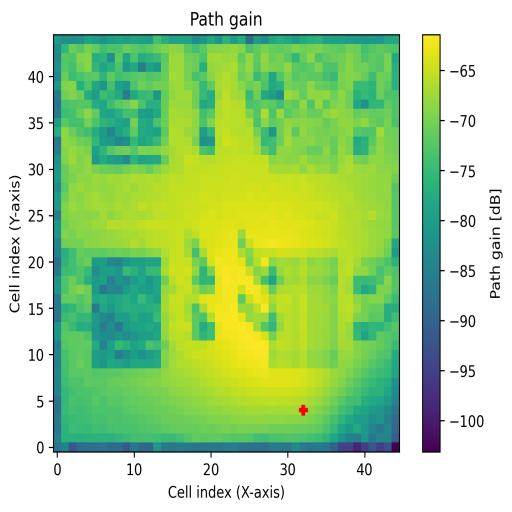Concrete: (270, 57, 338, 172)
Glass: (92, 52, 168, 165)
Metal: (268, 258, 338, 370)
Wood: (92, 257, 162, 369)
